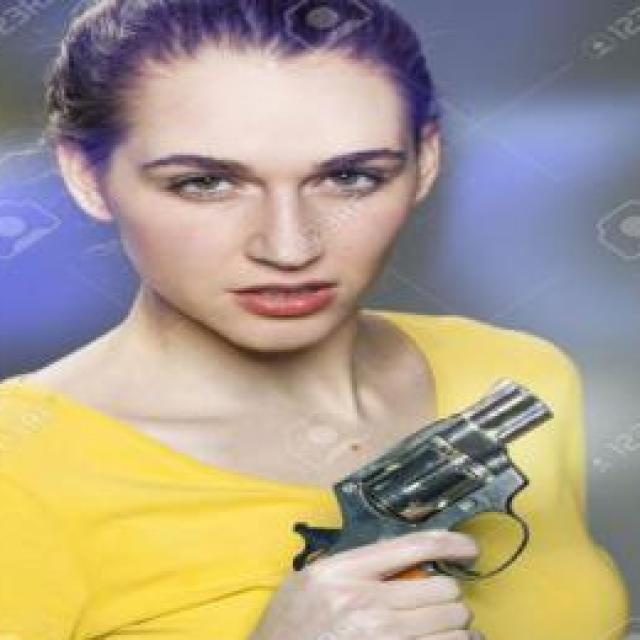pistol: (288, 384, 558, 583)
